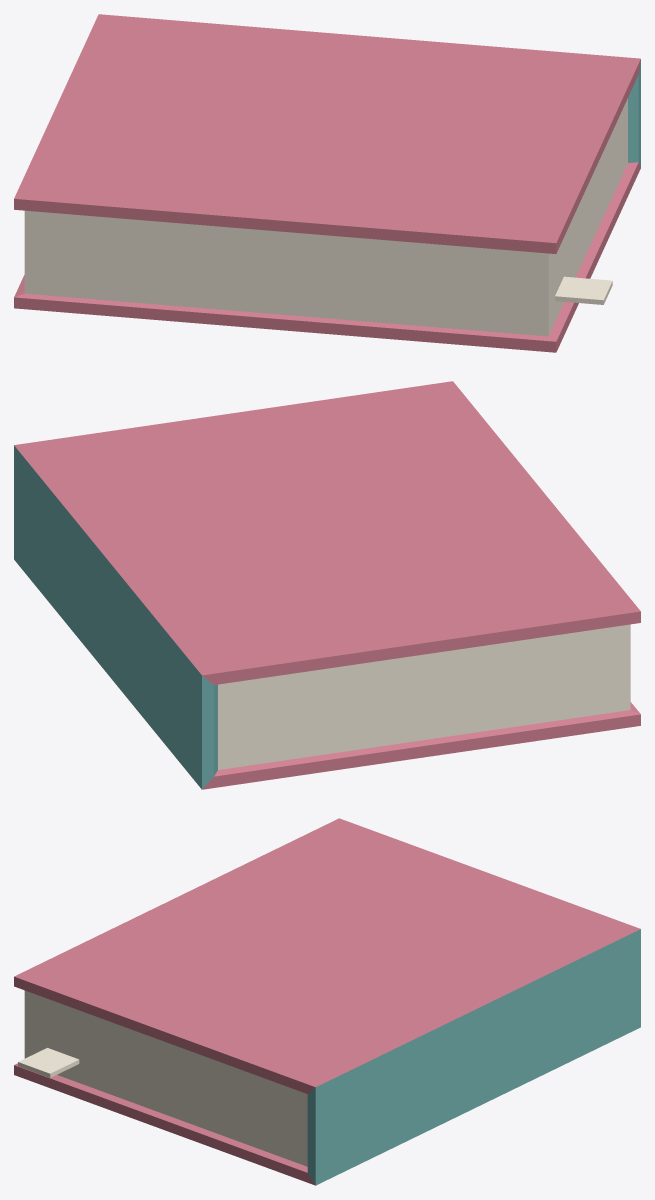
The model's file is Childrens_Room_Book.fbx.
3 views of the same model, one above another, from view 1: azimuth 30°, elevation 25°; view 2: azimuth 150°, elevation 25°; view 3: azimuth 270°, elevation 25° (orthographic). The views are drawn at different scales.
Visible parts, largest first — view 1: Childrens_Room_Book; view 2: Childrens_Room_Book; view 3: Childrens_Room_Book.
Part boxes in pixels (x1=…): Childrens_Room_Book: x1=14, y1=14, x2=640, y2=352; Childrens_Room_Book: x1=14, y1=381, x2=640, y2=789; Childrens_Room_Book: x1=14, y1=818, x2=640, y2=1185.
Bounding box in the file's own units: 42.64 × 7.27 × 42.
